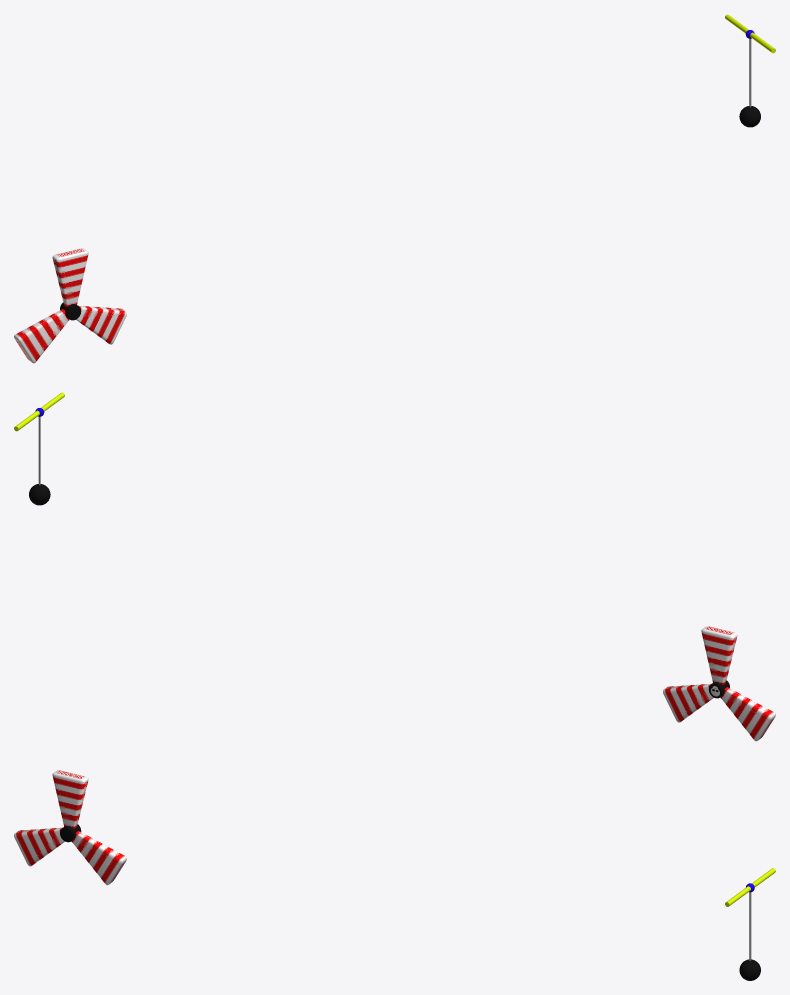
The model's file is 2 models.fbx.
3 renders of one model, top to bottom at view 1: azimuth 30°, elevation 25°; view 2: azimuth 150°, elevation 25°; view 3: azimuth 330°, elevation 25°, orthographic.
Visible parts, largest first — view 1: Cube_2, Cube_3, Cube; view 2: Cube_2, Cube_3, Cube; view 3: Cube, Cube_3, Cube_2, sphere.
Part boxes in pixels (x1,y1,x2,y2): Cube_2: (14,309,69,363); Cube_3: (52,248,88,307); Cube: (76,305,126,344); Cube_2: (720,687,775,741); Cube_3: (701,626,737,685); Cube: (663,683,713,722); Cube: (71,831,126,885); Cube_3: (52,770,88,829); Cube_2: (14,827,64,866); sphere: (739,959,760,980).
Size of the model in its own units: 7919 by 1594 by 858.
Materials: 6 (3 with a texture image).
